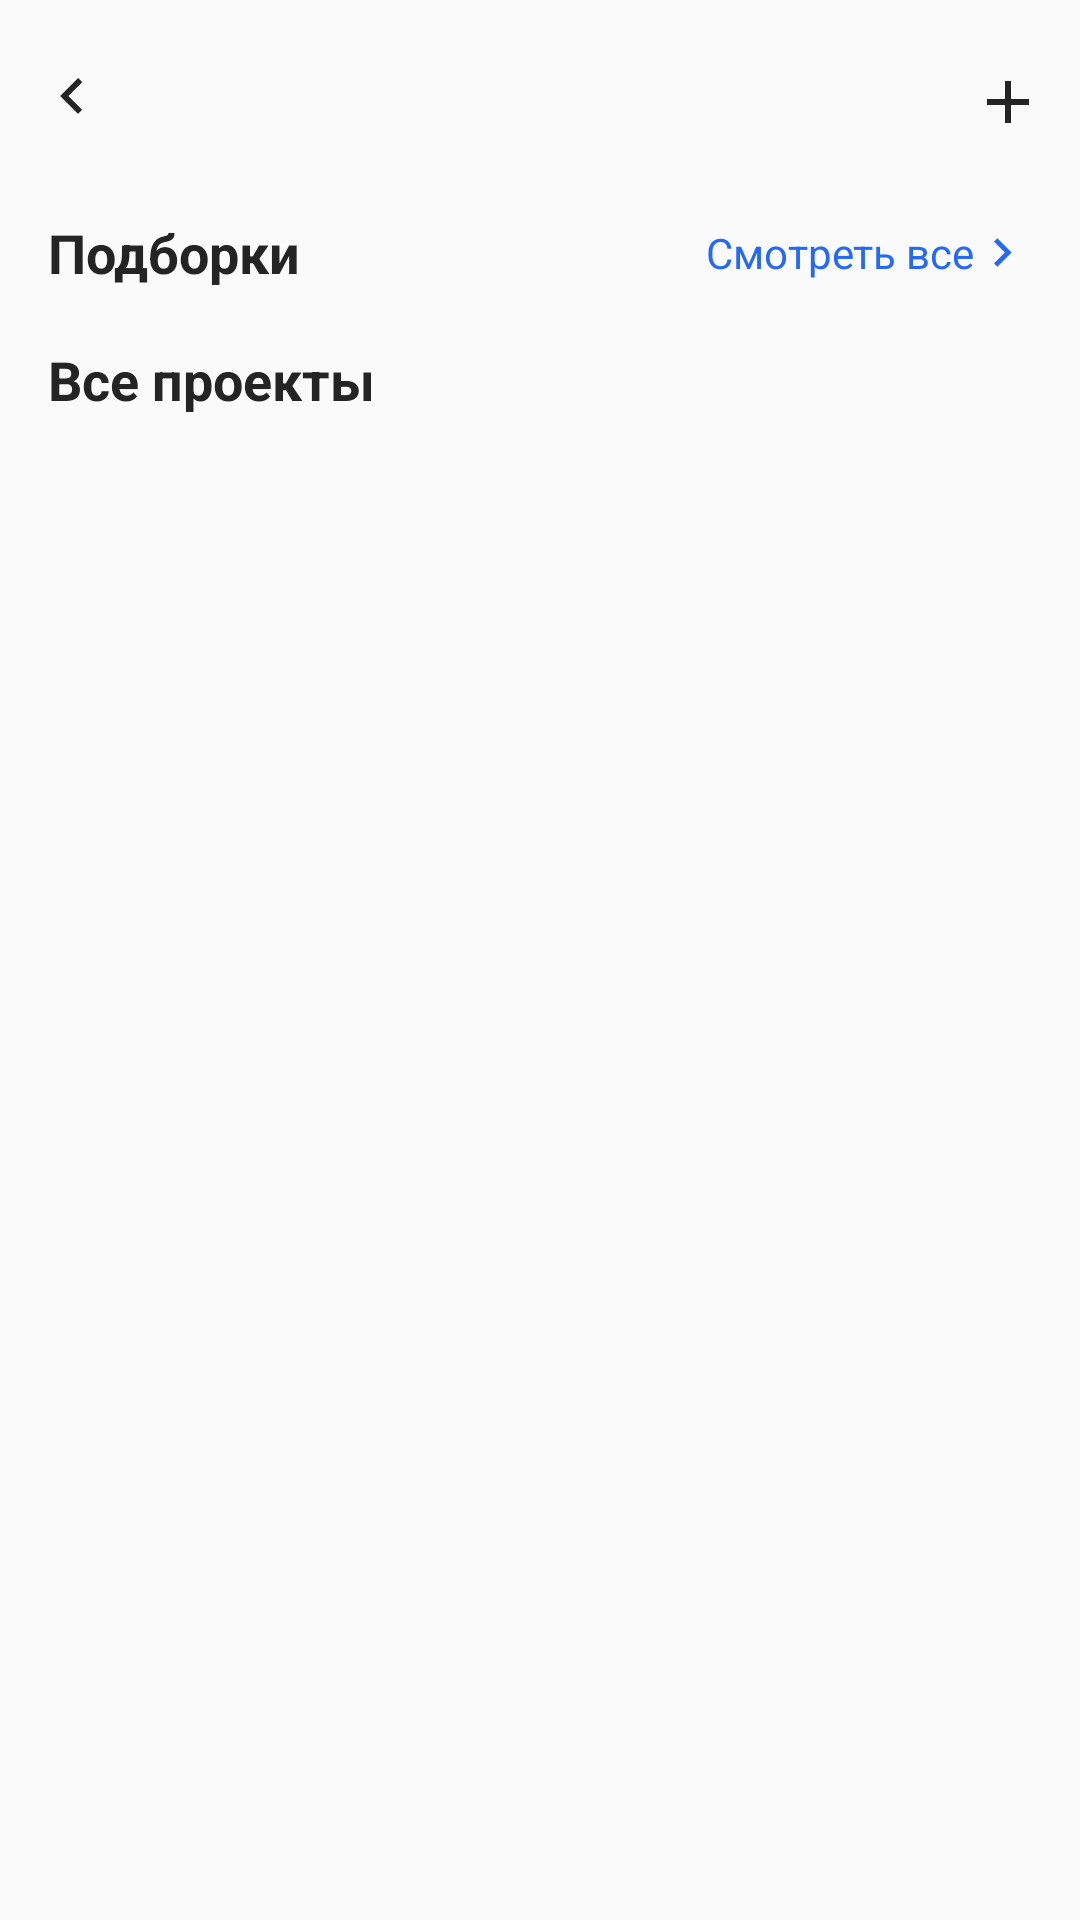

Locate icon controls on the screen. Image size 1080px×1920px, boxes as (x1, y1, x2, y2).
add fav: (987, 81, 1029, 123)
GO BACK: (60, 78, 82, 114)
